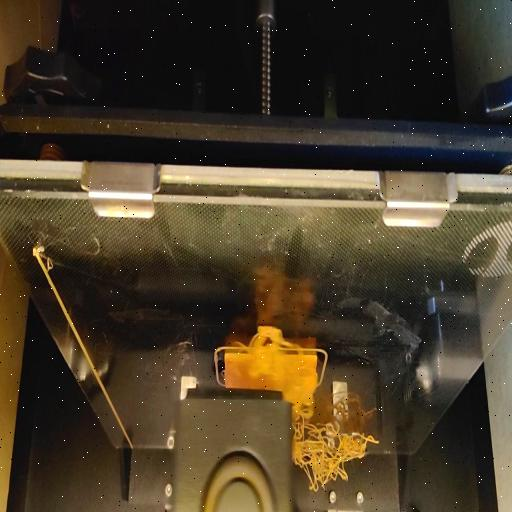spaghetti: (288, 426, 376, 492)
